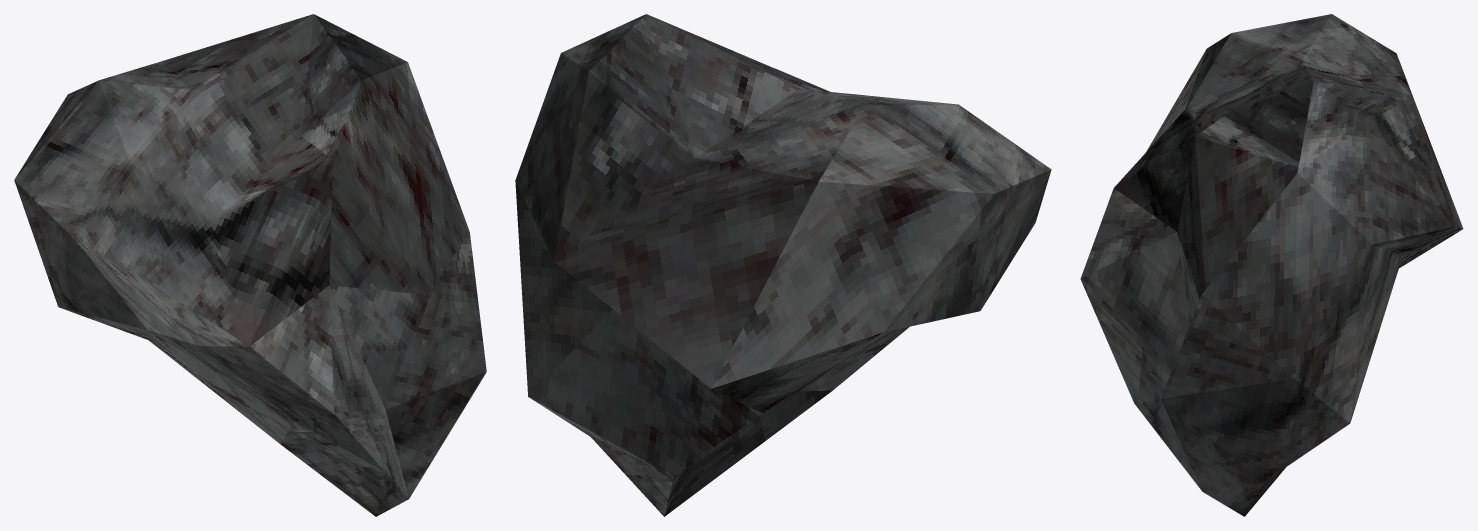
The model's file is stone(small).glb.
The picture shows the model from 3 angles, left to right: view 1: azimuth 30°, elevation 25°; view 2: azimuth 150°, elevation 25°; view 3: azimuth 270°, elevation 25°; orthographic projection. The views are drawn at different scales.
Visible parts, largest first — view 1: Icosphere.002; view 2: Icosphere.002; view 3: Icosphere.002.
Part boxes in pixels (box(x1,y1,x2,y2)): Icosphere.002: box(14, 14, 486, 516); Icosphere.002: box(515, 14, 1051, 516); Icosphere.002: box(1080, 14, 1463, 516).
Bounding box in the file's own units: 2.34 × 2.54 × 2.07.
Materials: 1 (1 with a texture image).
